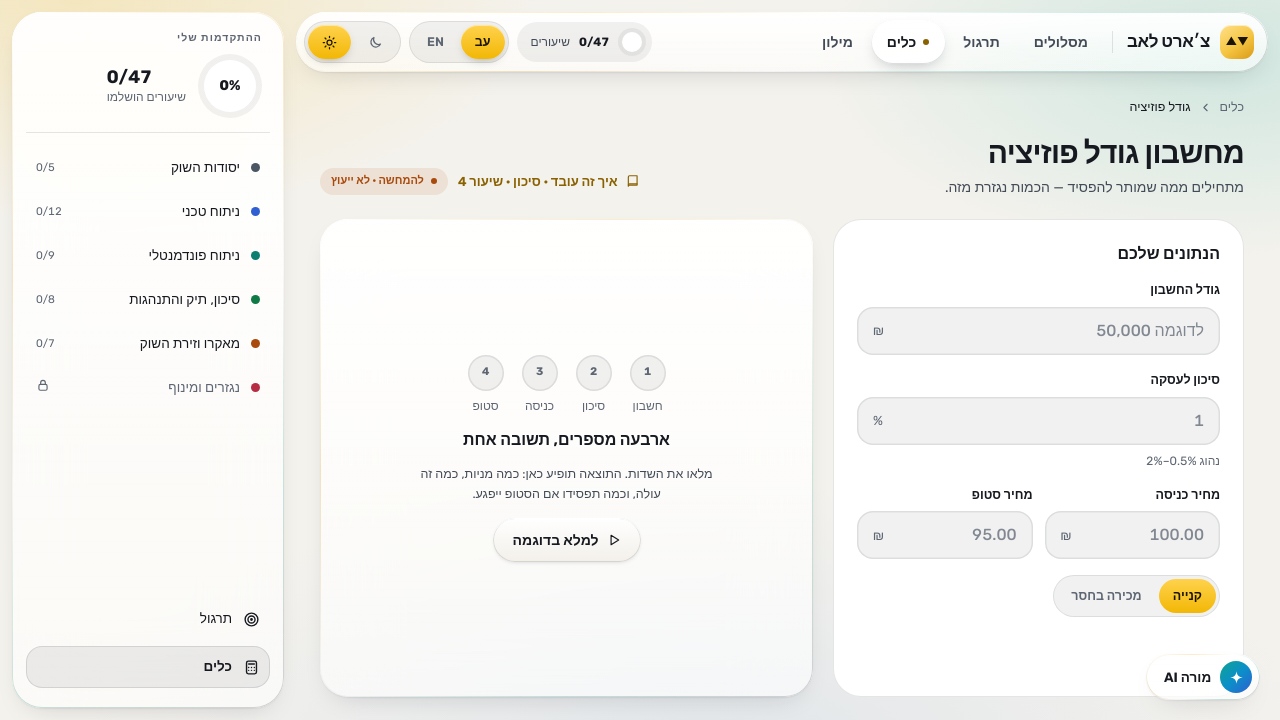
calculators compute live, with no submit step › position size: high risk warns without blocking
Click the button "למלא בדוגמה".
click(566, 540)  # box [492,518,640,562]
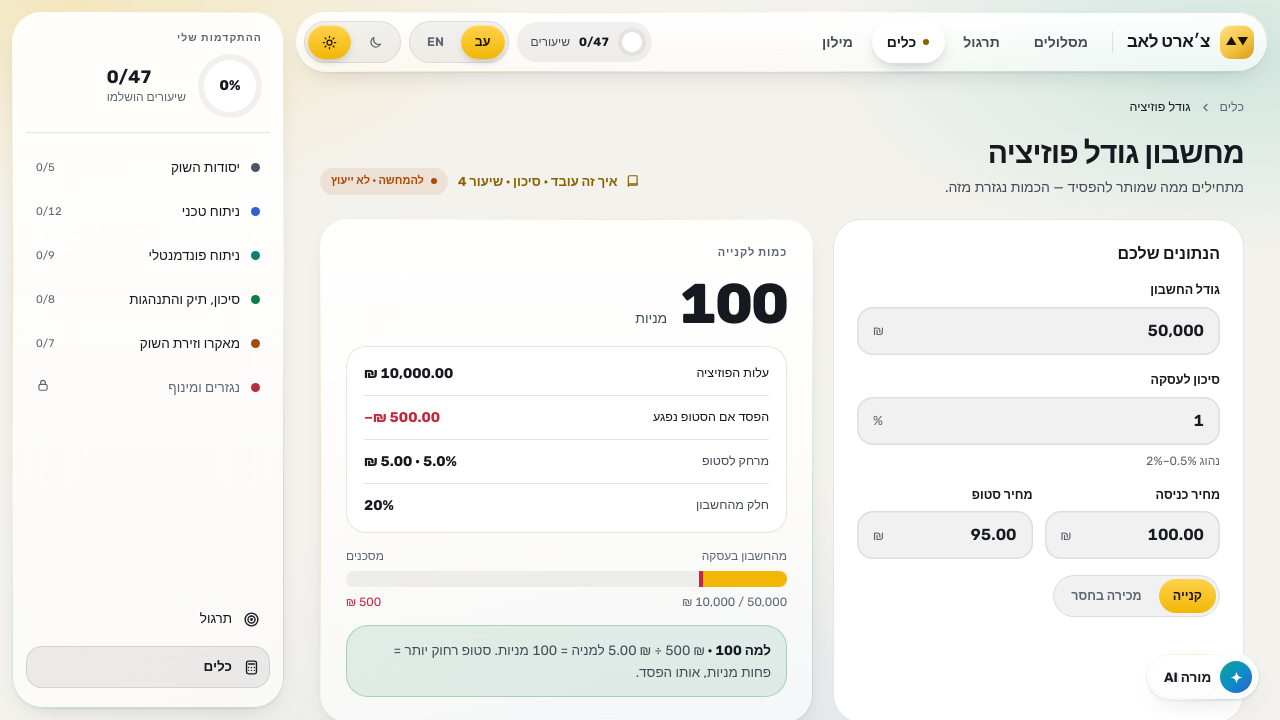
Type "8" into the field labelled "סיכון לעסקה".
click(1048, 420); type("8")  # box [893,408,1204,432]
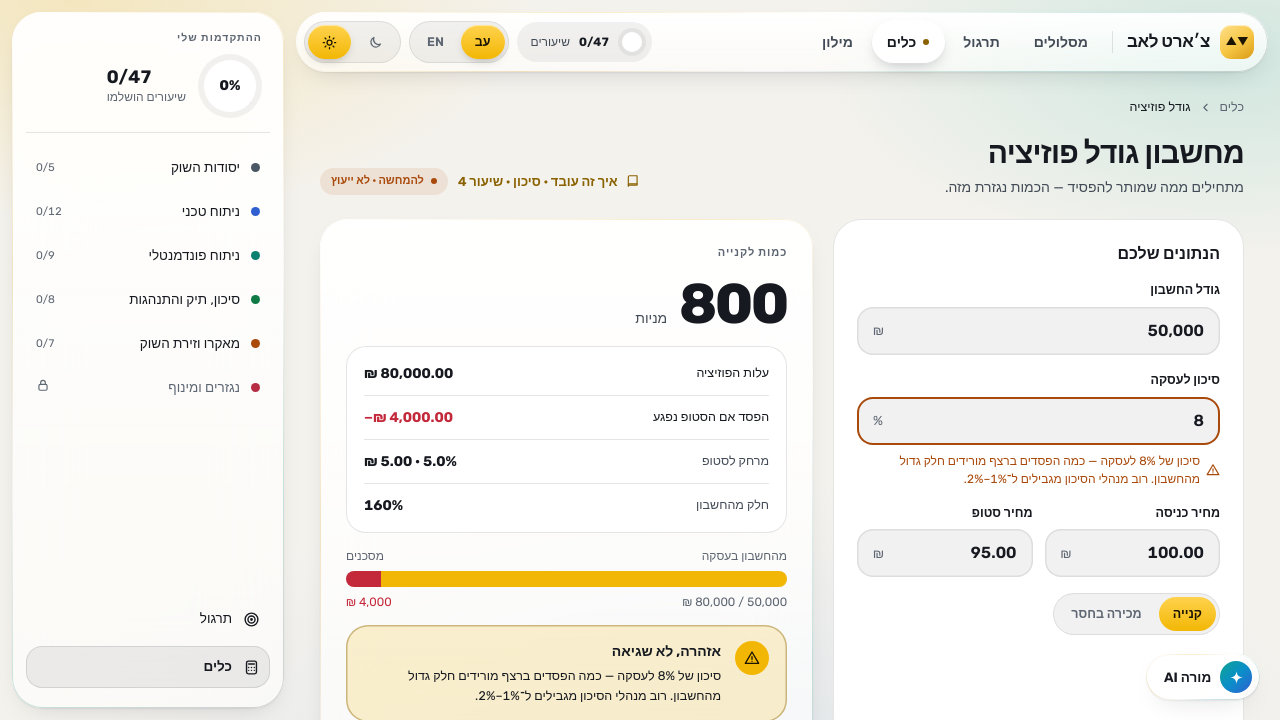
Expected: the text "סיכון של 8% לעסקה" is shown, [900,454,1200,486]
Expected: the text with test id "tool-headline" reads "800", [679,271,787,337]
